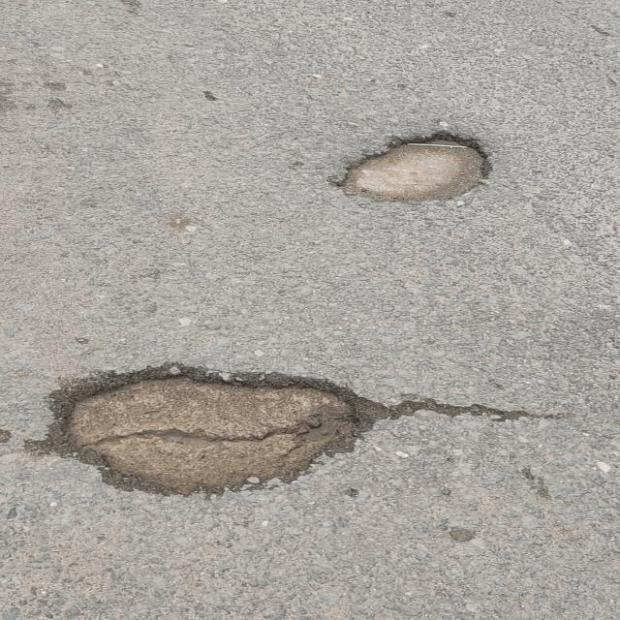lubang: (29, 366, 426, 494), (333, 132, 490, 202)
